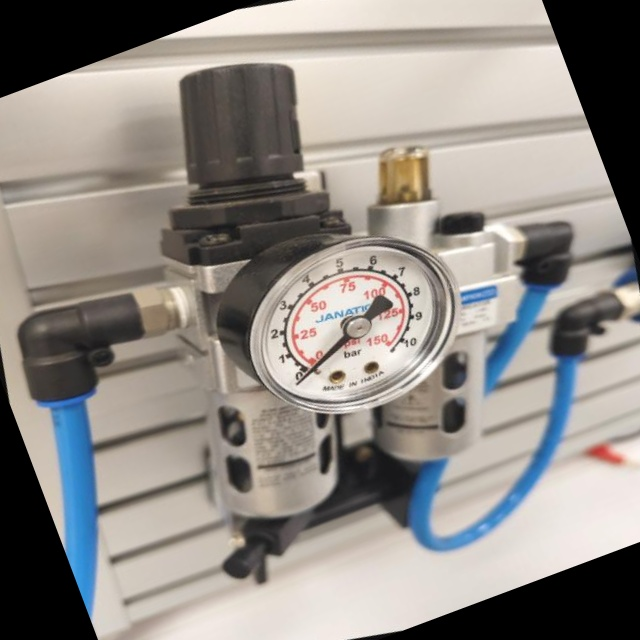FRL unit: (0, 0, 640, 640)
push button: (169, 166, 510, 477)
